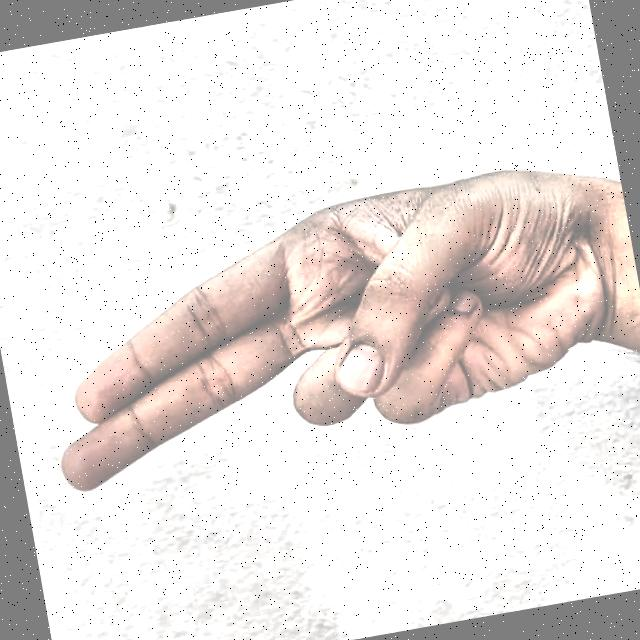Ha: (11, 110, 640, 608)
